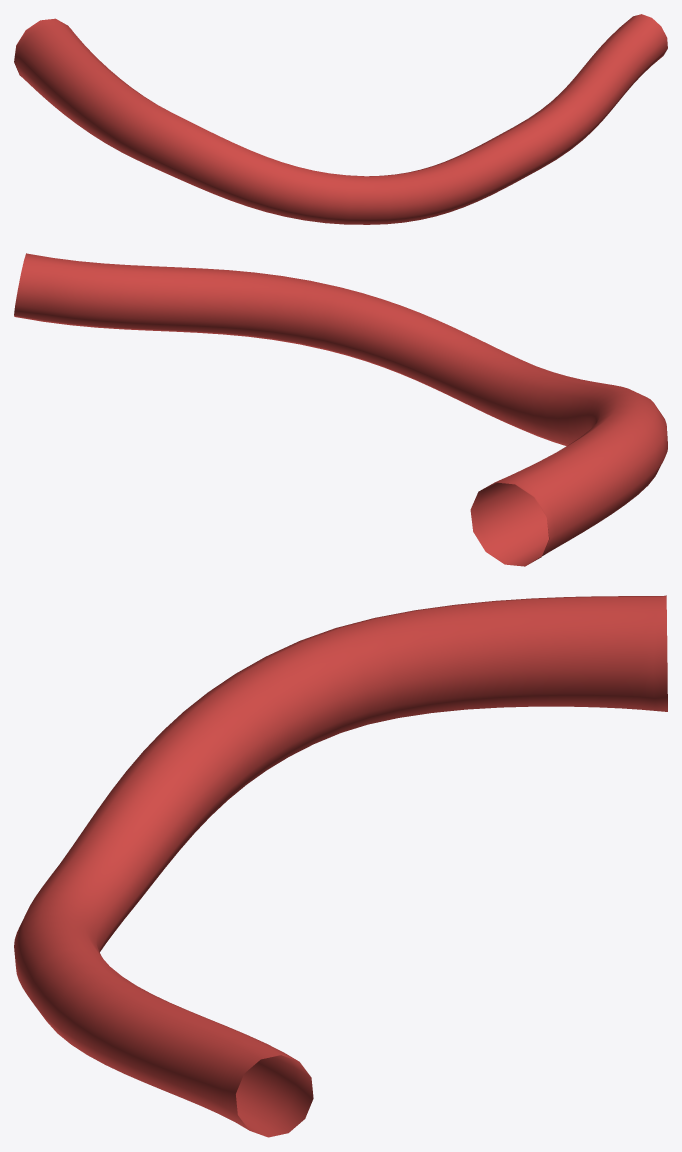
3 renders of one model, top to bottom at view 1: azimuth 30°, elevation 25°; view 2: azimuth 150°, elevation 25°; view 3: azimuth 270°, elevation 25°, orthographic. The views are drawn at different scales.
Visible parts, largest first — view 1: 左锁骨下动脉; view 2: 左锁骨下动脉; view 3: 左锁骨下动脉.
Boxes of the visible parts, bbox=[...] form: 左锁骨下动脉: bbox=[14, 14, 667, 224]; 左锁骨下动脉: bbox=[14, 253, 667, 566]; 左锁骨下动脉: bbox=[14, 595, 667, 1137].
Size of the model in its own units: 0.0906 by 0.0193 by 0.0565.
